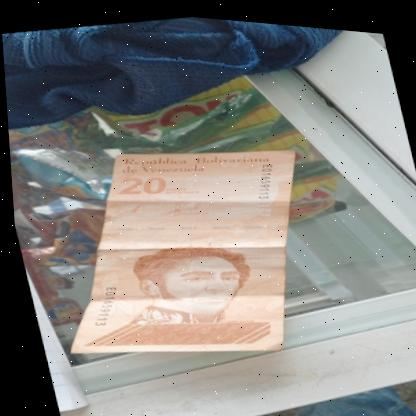vef_front: (19, 112, 341, 386)
